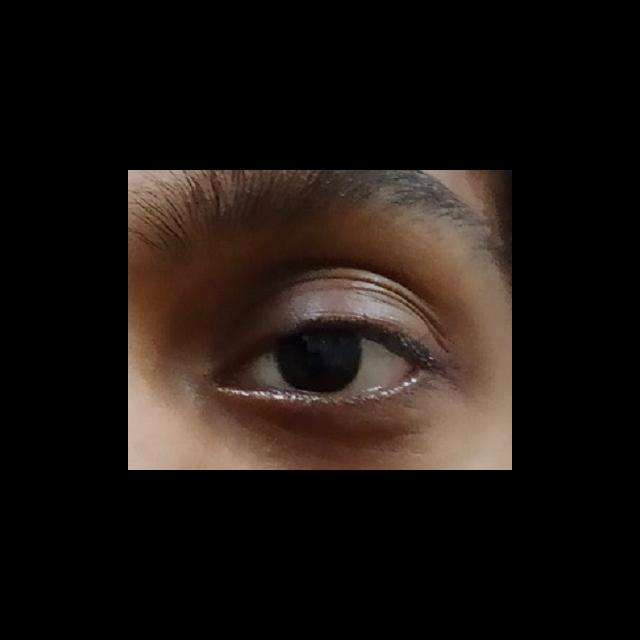eye: (252, 325, 415, 397)
iris: (274, 329, 361, 393)
